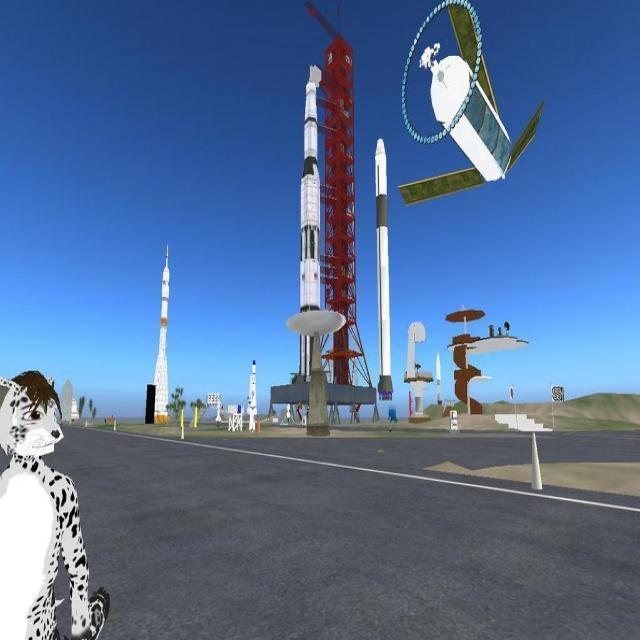Missile: (295, 73, 324, 318), (370, 137, 396, 400), (241, 355, 261, 418), (159, 265, 171, 332), (434, 349, 442, 385)
